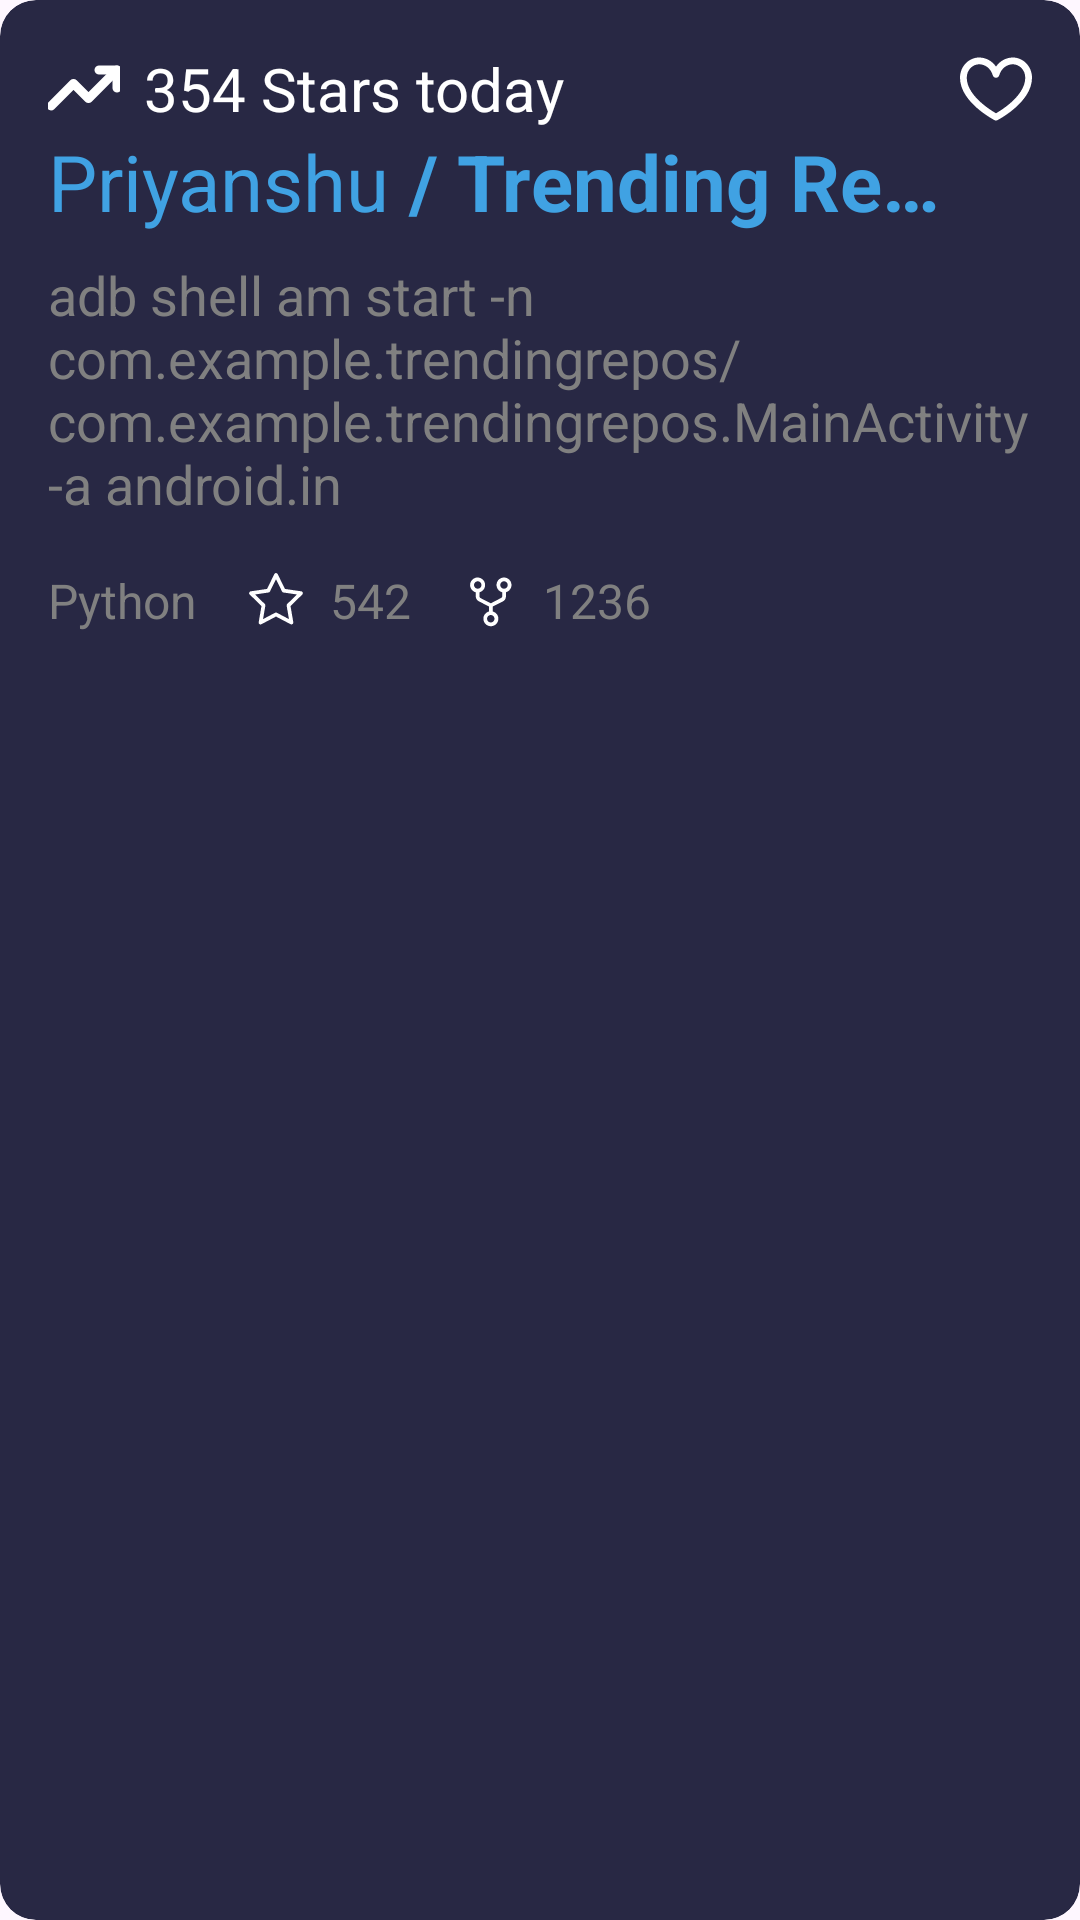

Icon click points for this 1080w x 1920h phone screenshot, format point (x, y):
heart: point (996, 89)
